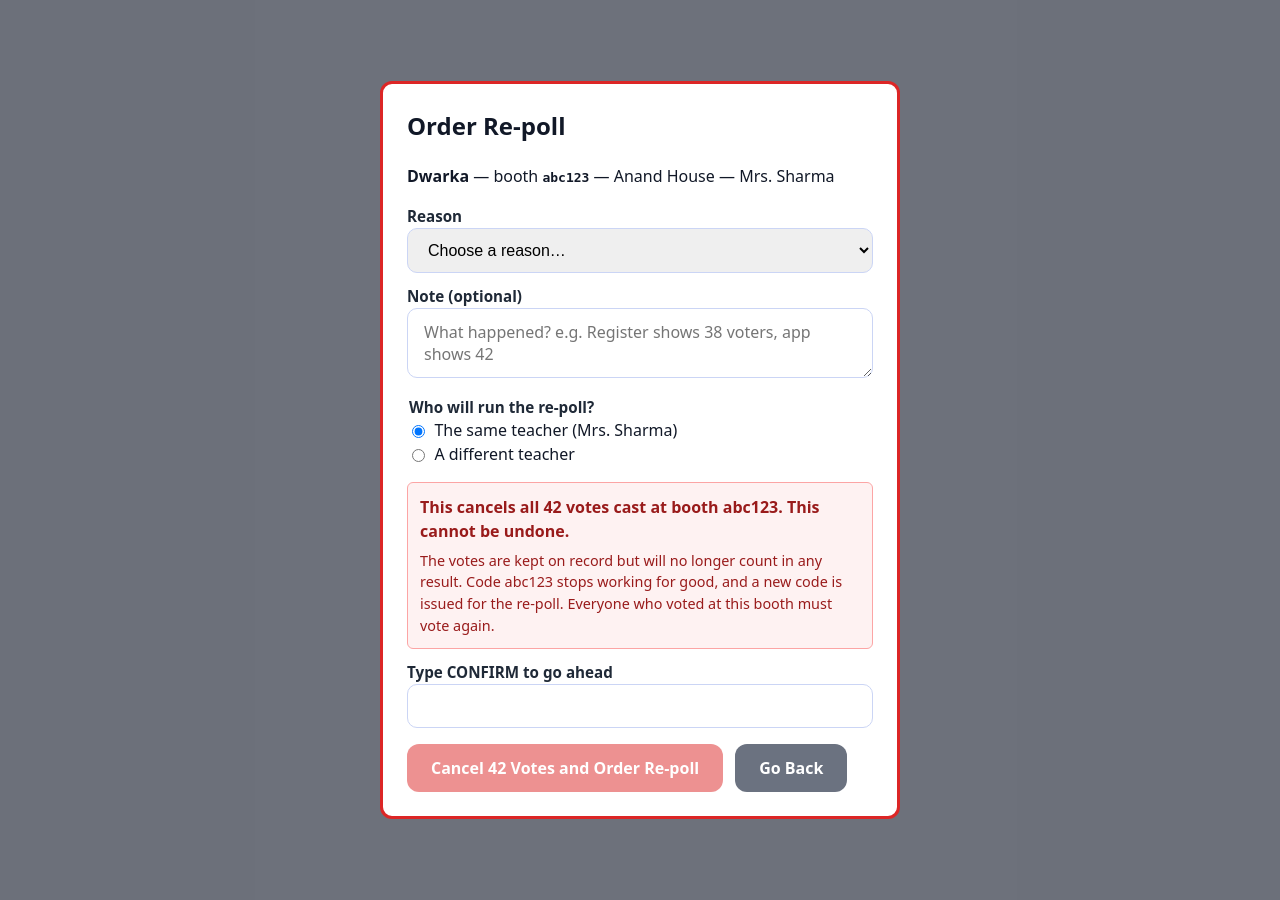
Test: RepollDialog › stays locked until CONFIRM is typed
The image size is (1280, 900).
Expected: the button "Cancel 42 Votes and Order Re-poll" is disabled, 407,744 -> 723,792
In the field labelled "Type CONFIRM to go ahead": (640, 706) 407,684 -> 873,728, type "confirm"
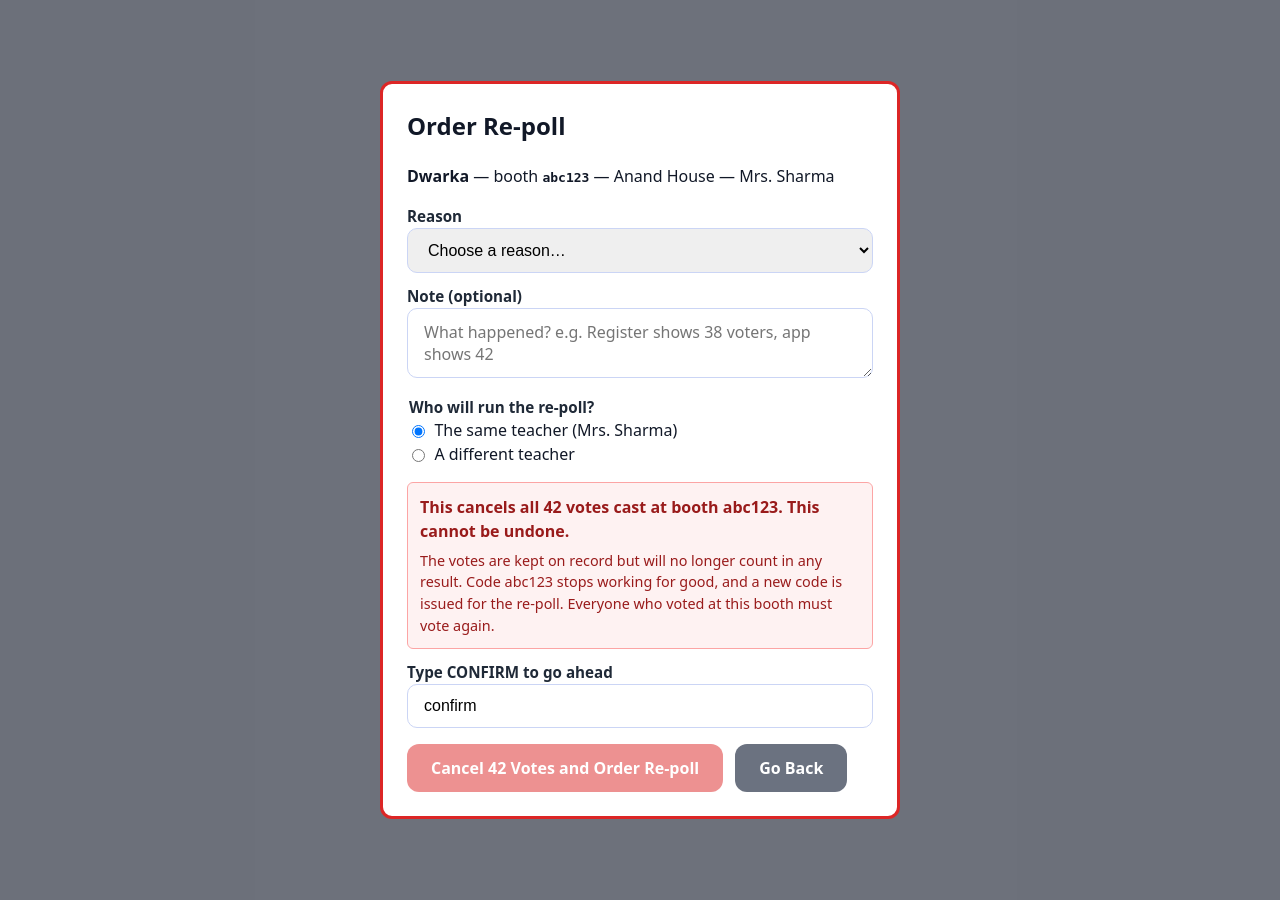
Expected: the button "Cancel 42 Votes and Order Re-poll" is disabled, 407,744 -> 723,792
Replace the text in the field labelled "Type CONFIRM to go ahead" with "CONFIRM": (640, 706) 407,684 -> 873,728
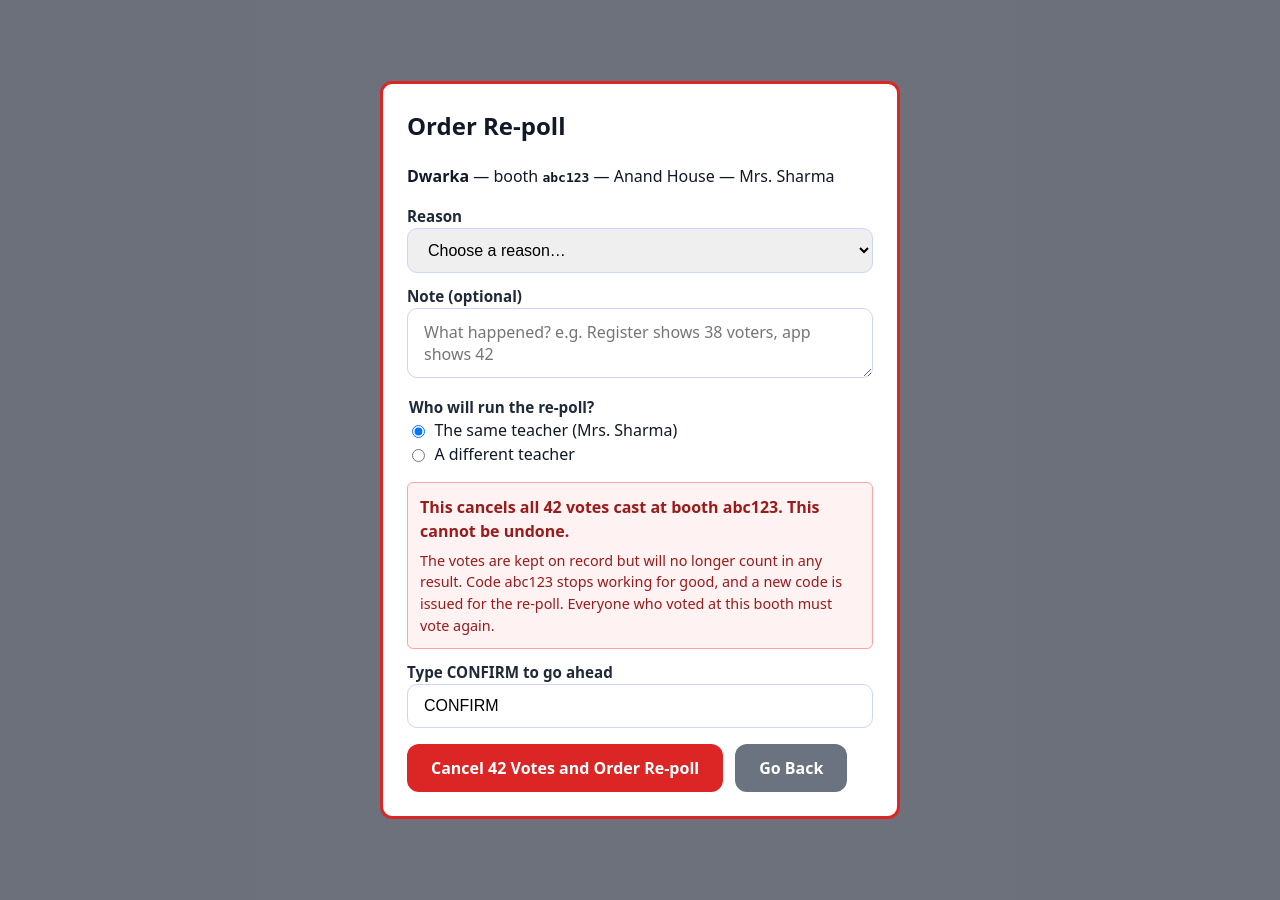
Expected: the button "Cancel 42 Votes and Order Re-poll" is enabled, 407,744 -> 723,792
